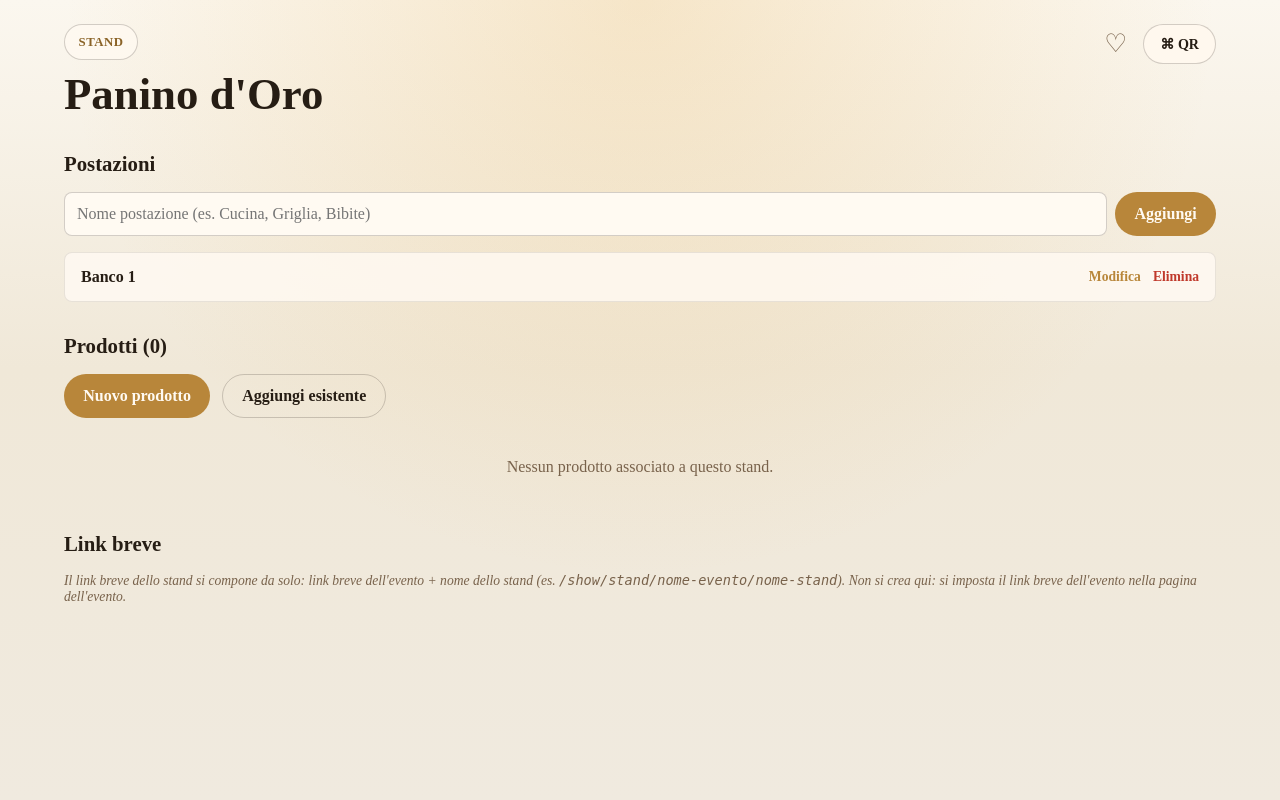
it: pagina dello stand — i due moduli prodotto › il modulo di associazione non chiede piu' quale evento usare
expect the heading "Panino d'Oro" is shown: met, box [64, 68, 323, 120]
Click the button "Aggiungi esistente": [304, 396] box [222, 374, 386, 418]
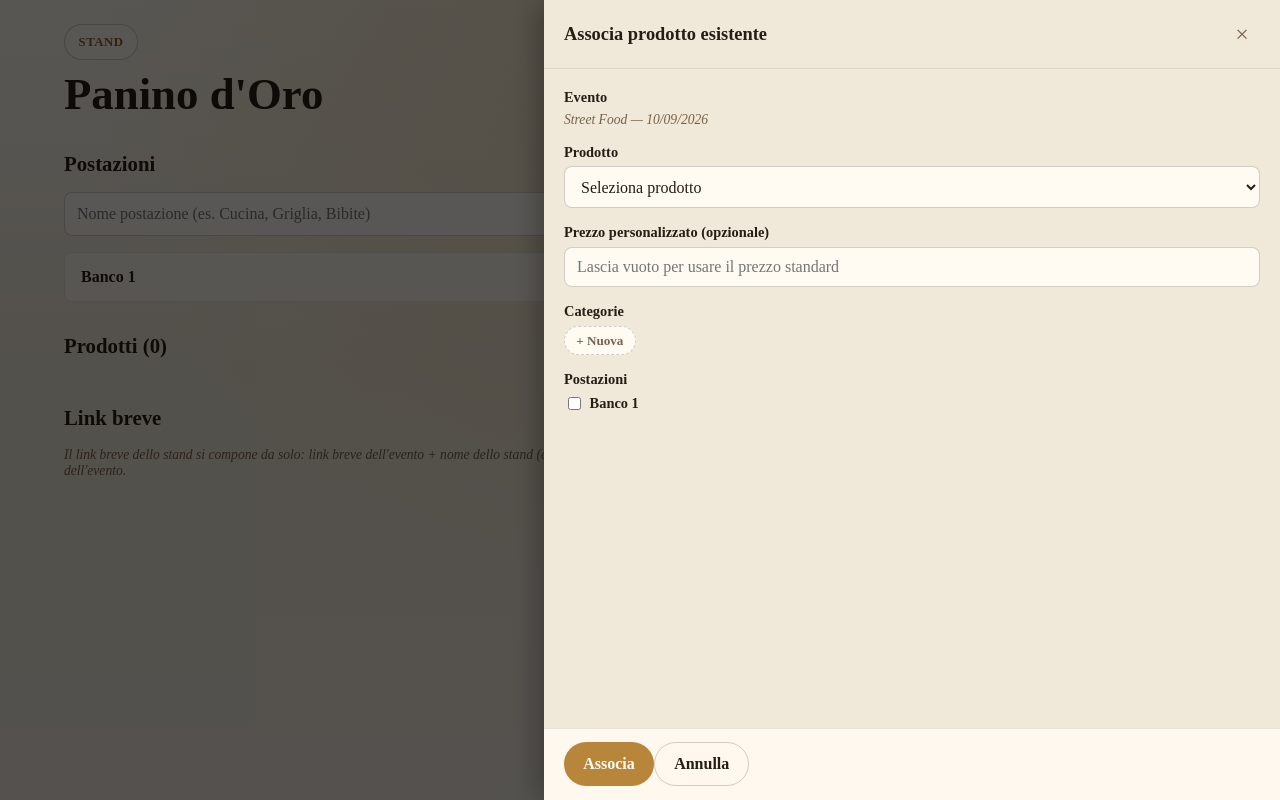
expect the text "Street Food — 10/09/2026" is shown: met, box [564, 112, 708, 127]
